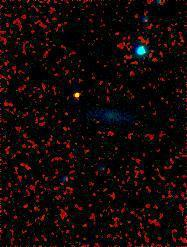star: (65, 80, 95, 110)
